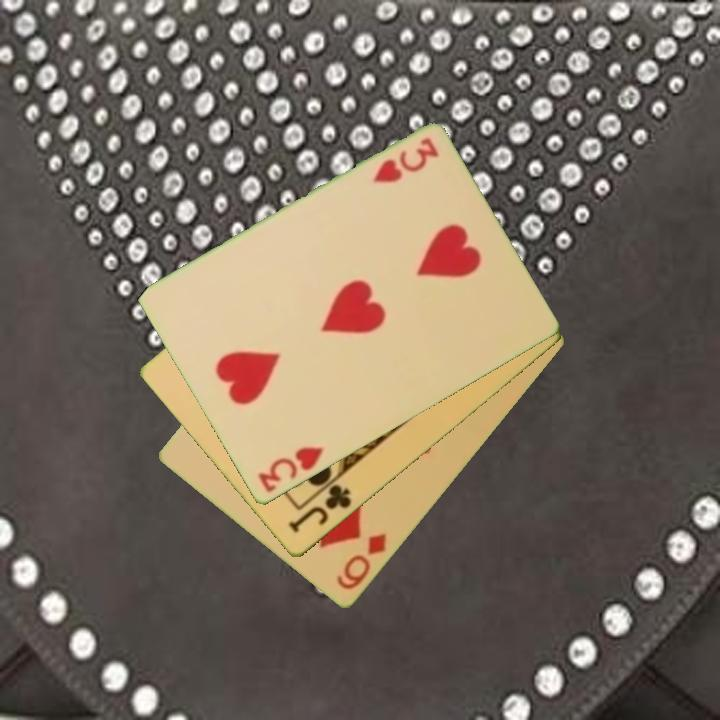3h: (254, 443, 327, 496), (368, 134, 441, 187)
6d: (332, 530, 390, 594)
Jc: (285, 481, 355, 537)
